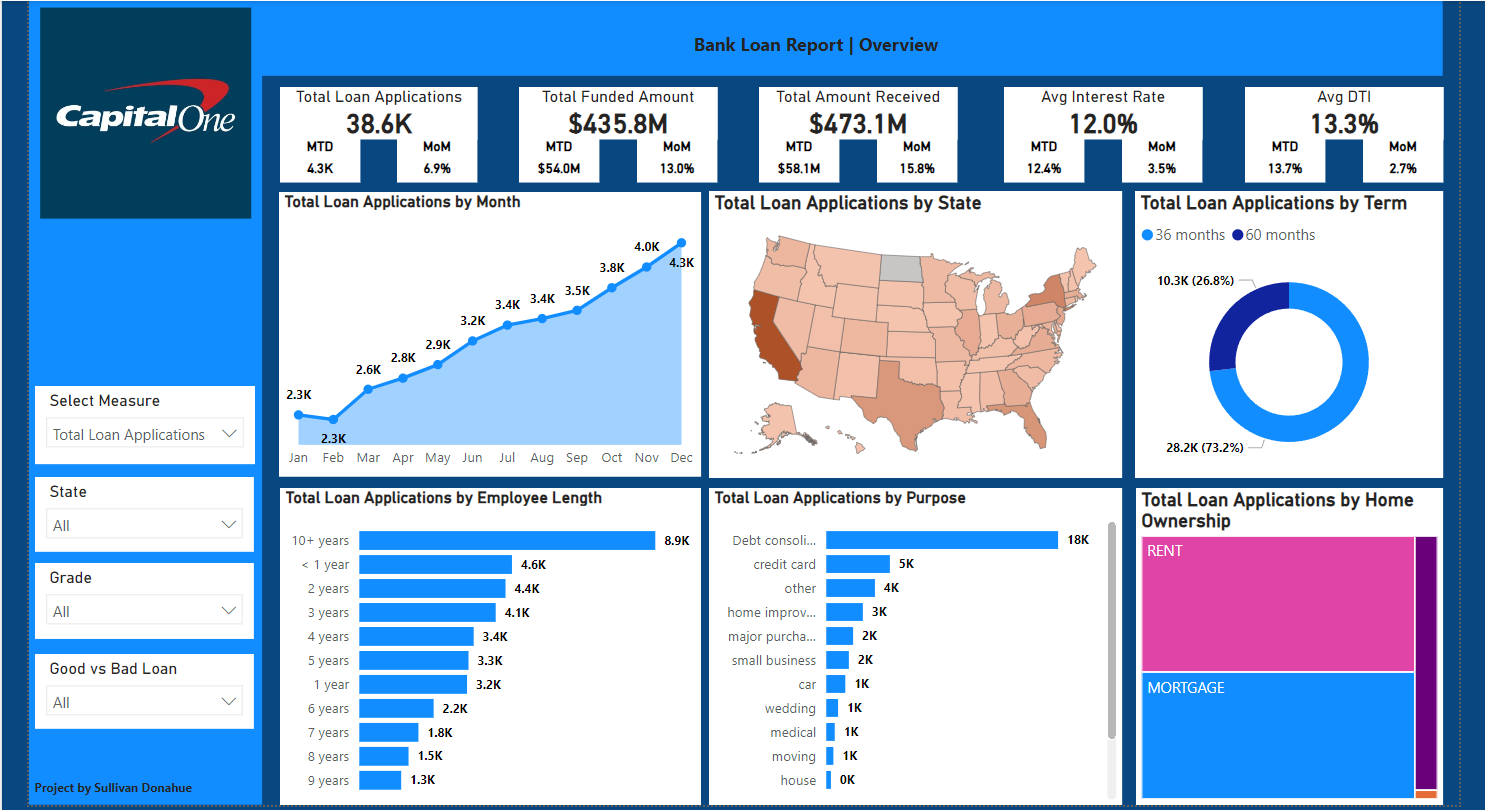

The page's visual inventory and layout, read from the dashboard file:
{"tool":"powerbi","page":{"name":"Page 1","canvas":[1280,720],"ordinal":0},"visuals":[{"type":"shape","box":[0,0,1266.3,67.2],"z":0},{"type":"shape","box":[0,53.7,208.8,666.2],"z":1000},{"type":"textbox","box":[130.2,22.2,1149.8,36.6],"z":2000},{"type":"card","title":"Total Loan Applications","fields":{"Values":["CountNonNull(Bank_Loan_data.id)"]},"box":[224.8,77,177.3,46.6],"z":3000},{"type":"card","title":"Total Funded Amount","fields":{"Values":["Sum(Bank_Loan_data.loan_amount)"]},"box":[438.6,76.7,177.5,47],"z":4000},{"type":"card","title":"Avg Interest Rate","fields":{"Values":["Avg(Bank_Loan_data.int_rate)"]},"box":[873.4,76.7,177.5,47],"z":5000},{"type":"card","title":"Total Amount Received","fields":{"Values":["Sum(Bank_Loan_data.total_payment)"]},"box":[653.8,76.7,177.5,47],"z":6000},{"type":"card","title":"Avg DTI","fields":{"Values":["Avg(Bank_Loan_data.dti)"]},"box":[1088.7,76.7,177.5,47],"z":7000},{"type":"lineChart","title":"Total Loan Applications by Month","fields":{"Category":["Date Table.Month"],"Y2":["Bank_Loan_data.Total Loan Applications"]},"box":[223.9,171,377.9,255.2],"z":8000},{"type":"clusteredBarChart","title":"Total Loan Applications by Employee Length","fields":{"Category":["Bank_Loan_data.emp_length"],"Y":["CountNonNull(Bank_Loan_data.id)"]},"box":[224.8,436.1,377,283.9],"z":9000},{"type":"clusteredBarChart","title":"Total Loan Applications by Purpose","fields":{"Y":["CountNonNull(Bank_Loan_data.id)"],"Category":["Bank_Loan_data.purpose"]},"box":[609.2,435.8,369.7,284],"z":10000},{"type":"shapeMap","fields":{"Category":["Bank_Loan_data.address_state"],"Value":["Bank_Loan_data.Total Loan Applications"]},"box":[609.2,170.1,369.7,256.5],"z":11000},{"type":"donutChart","title":"Total Loan Applications by Term","fields":{"Y":["CountNonNull(Bank_Loan_data.id)"],"Category":["Bank_Loan_data.term"]},"box":[990.4,170.1,275.8,257],"z":12000},{"type":"slicer","fields":{"Values":["Bank_Loan_data.address_state"]},"box":[5.4,426.3,196.1,67.2],"z":13000},{"type":"slicer","fields":{"Values":["Bank_Loan_data.grade"]},"box":[5.4,503.3,196.1,68.1],"z":14000},{"type":"slicer","fields":{"Values":["Bank_Loan_data.loan_status"]},"box":[5.4,584.8,196.1,67.2],"z":15000},{"type":"treemap","fields":{"Group":["Bank_Loan_data.home_ownership"],"Values":["Bank_Loan_data.Total Loan Applications"]},"box":[991.3,436.1,274.9,283.9],"z":16000},{"type":"card","title":"MTD","fields":{"Values":["Bank_Loan_data.MTD Loan Applications"]},"box":[224.8,123.6,71.6,39.4],"z":17000},{"type":"card","title":"MoM","fields":{"Values":["Bank_Loan_data.MoM Loan Application"]},"box":[329.6,123.6,71.6,39.4],"z":18000},{"type":"card","title":"MTD","fields":{"Values":["Bank_Loan_data.MTD Funded Amount"]},"box":[438.8,123.6,71.6,39.4],"z":19000},{"type":"card","title":"MoM","fields":{"Values":["Bank_Loan_data.MoM Total Funded Amount"]},"box":[544.5,123.6,71.6,39.4],"z":20000},{"type":"card","title":"MTD","fields":{"Values":["Bank_Loan_data.MTD Amount Received"]},"box":[653.7,123.6,71.6,39.4],"z":21000},{"type":"card","title":"MoM","fields":{"Values":["Bank_Loan_data.MoM Total Amount Received"]},"box":[759.4,123.6,71.6,39.4],"z":22000},{"type":"card","title":"MTD","fields":{"Values":["Bank_Loan_data.MTD Avg Interest Rate"]},"box":[873.1,123.6,71.6,39.4],"z":23000},{"type":"card","title":"MoM","fields":{"Values":["Bank_Loan_data.MoM Avg Int Rate"]},"box":[978.8,123.6,71.6,39.4],"z":24000},{"type":"card","title":"MTD","fields":{"Values":["Bank_Loan_data.MTD Avg DTI"]},"box":[1089,123.6,71.6,39.4],"z":25000},{"type":"card","title":"MoM","fields":{"Values":["Bank_Loan_data.MoM AVG DTI"]},"box":[1194.6,123.6,71.6,39.4],"z":26000},{"type":"image","box":[0,0.9,208.7,198.8],"z":27000},{"type":"slicer","fields":{"Values":["Select Measure.Select Measure"]},"box":[5.6,345.2,196.7,69.9],"z":27001},{"type":"textbox","box":[0,689.6,165.7,30.4],"z":27002}]}

Visuals, with their boxes in screenshot pixels (x1, y1, x2, y2):
shape: rect(31, 0, 1433, 74)
shape: rect(31, 59, 262, 797)
textbox: rect(175, 25, 1448, 65)
"Total Loan Applications" card: rect(280, 85, 476, 137)
"Total Funded Amount" card: rect(516, 85, 713, 137)
"Avg Interest Rate" card: rect(998, 85, 1194, 137)
"Total Amount Received" card: rect(755, 85, 951, 137)
"Avg DTI" card: rect(1236, 85, 1433, 137)
"Total Loan Applications by Month" lineChart: rect(279, 189, 697, 472)
"Total Loan Applications by Employee Length" clusteredBarChart: rect(280, 483, 697, 797)
"Total Loan Applications by Purpose" clusteredBarChart: rect(705, 482, 1115, 797)
shapeMap - Bank_Loan_data.address_state x Bank_Loan_data.Total Loan Applications: rect(705, 188, 1115, 472)
"Total Loan Applications by Term" donutChart: rect(1127, 188, 1433, 473)
slicer - Bank_Loan_data.address_state: rect(37, 472, 254, 546)
slicer - Bank_Loan_data.grade: rect(37, 557, 254, 633)
slicer - Bank_Loan_data.loan_status: rect(37, 647, 254, 722)
treemap - Bank_Loan_data.home_ownership x Bank_Loan_data.Total Loan Applications: rect(1128, 483, 1433, 797)
"MTD" card: rect(280, 137, 359, 180)
"MoM" card: rect(396, 137, 475, 180)
"MTD" card: rect(517, 137, 596, 180)
"MoM" card: rect(634, 137, 713, 180)
"MTD" card: rect(755, 137, 834, 180)
"MoM" card: rect(872, 137, 951, 180)
"MTD" card: rect(997, 137, 1077, 180)
"MoM" card: rect(1115, 137, 1194, 180)
"MTD" card: rect(1237, 137, 1316, 180)
"MoM" card: rect(1353, 137, 1433, 180)
image: rect(31, 1, 262, 221)
slicer - Select Measure.Select Measure: rect(37, 382, 255, 460)
textbox: rect(31, 763, 214, 797)
